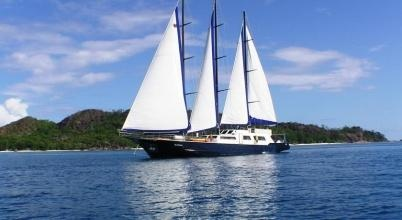fanchuan: (111, 1, 291, 161)
